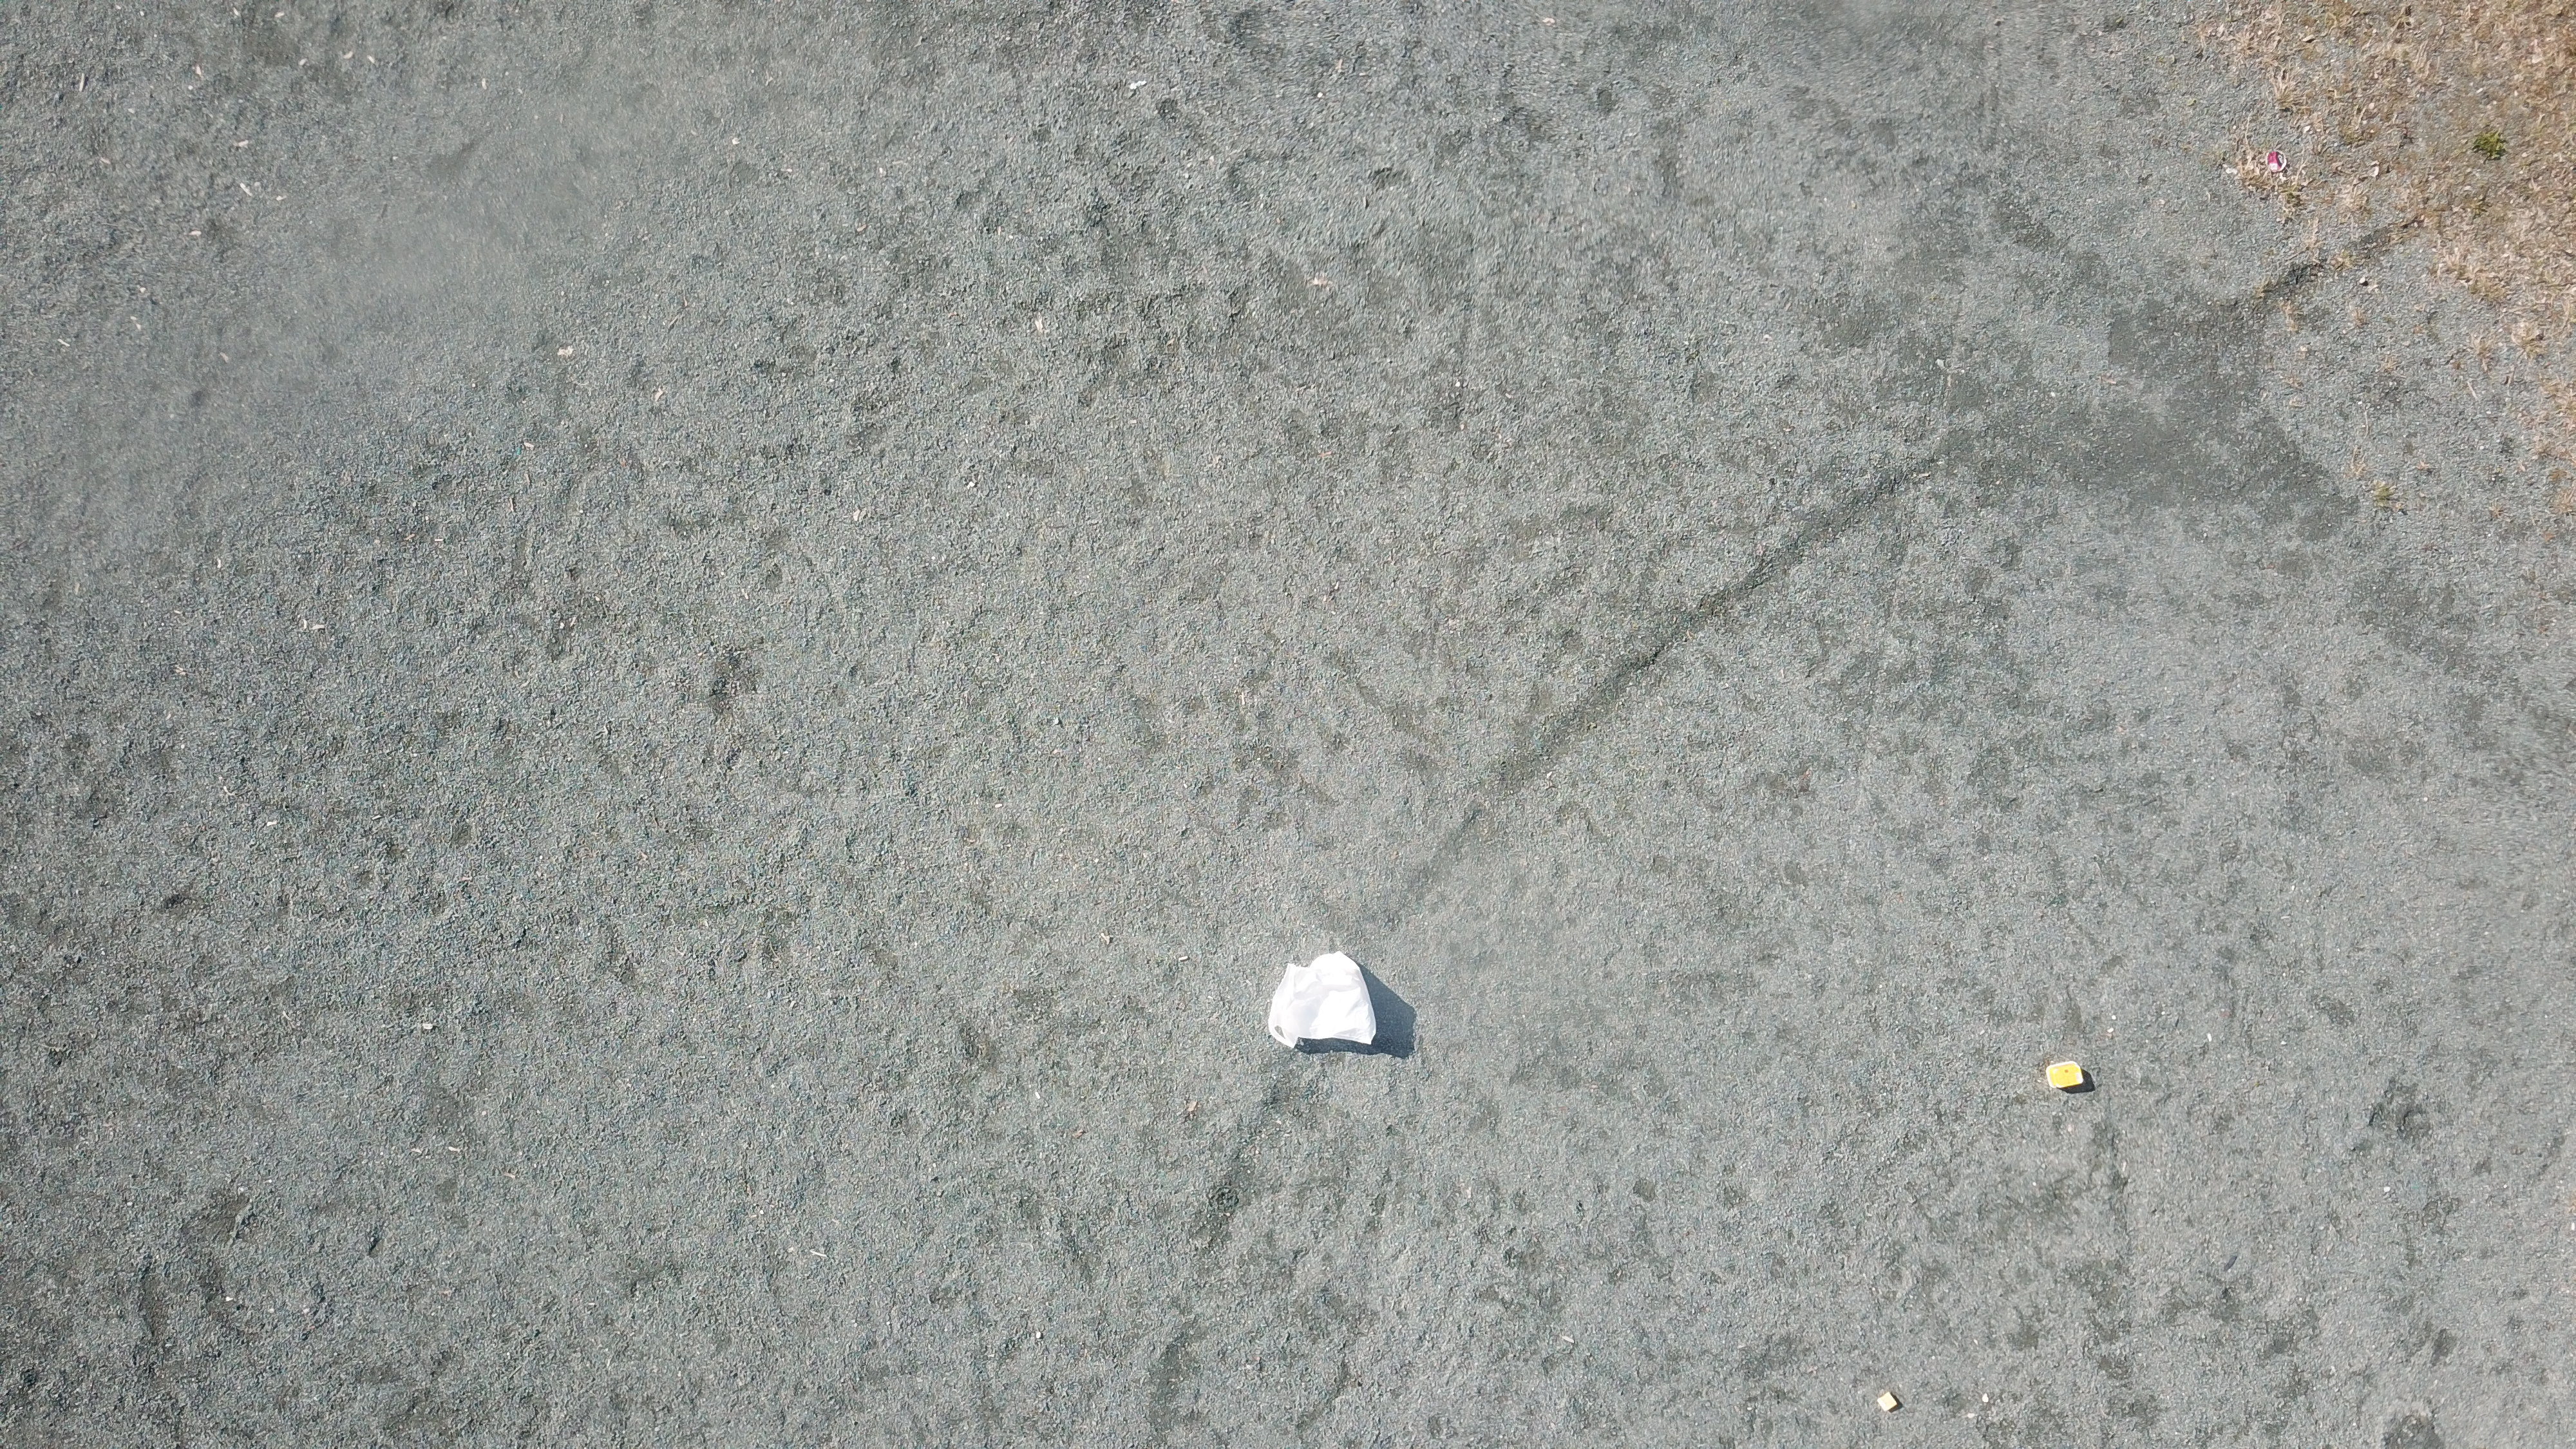Plastic: (1269, 950, 1380, 1049), (2045, 1062, 2086, 1090), (2266, 152, 2289, 173), (1877, 1391, 1898, 1412)
